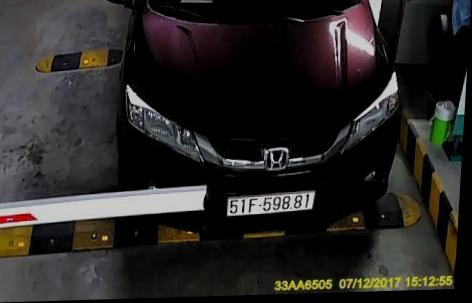License_Plate: (216, 186, 316, 219)
